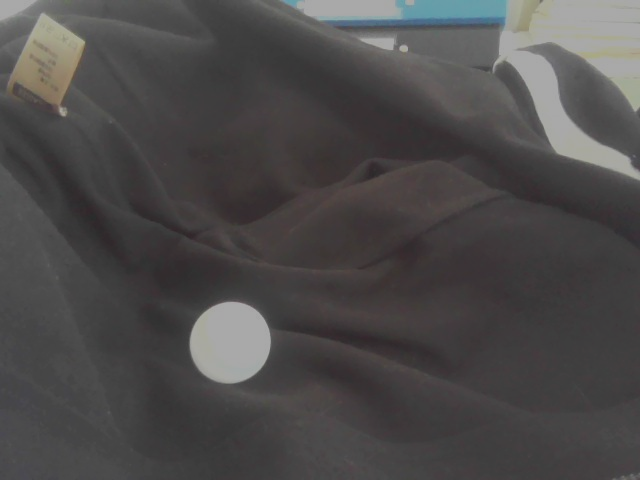ball: (190, 299, 271, 383)
